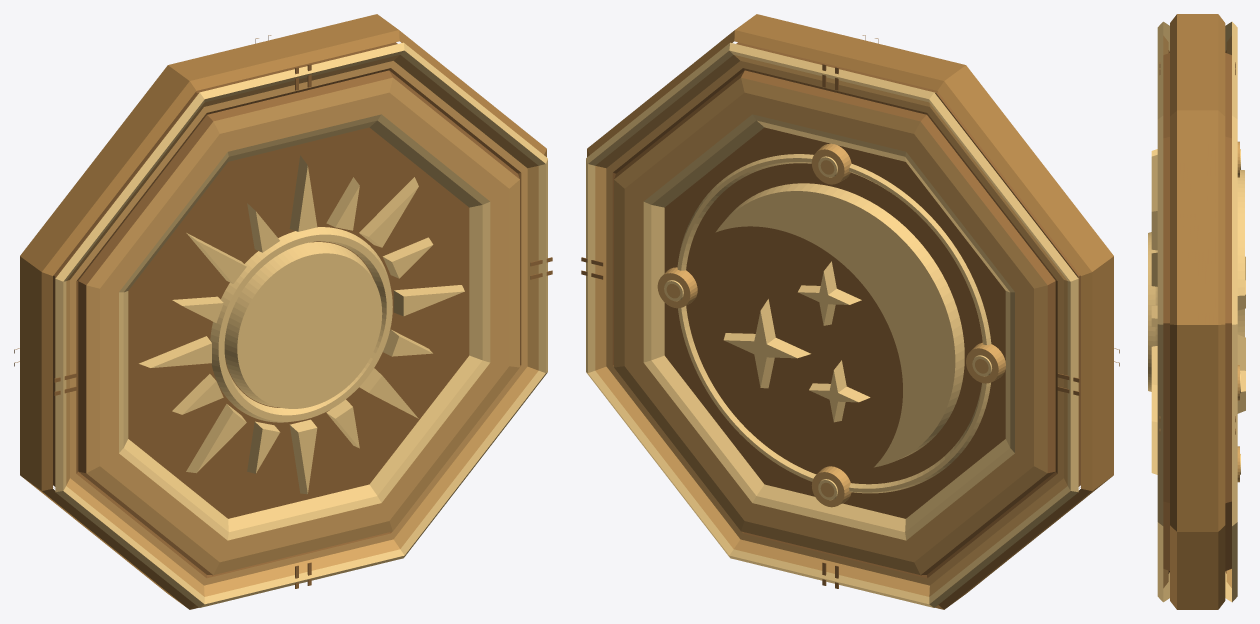
Rendered from midnight_coin.glb.
3 renders of one model, left to right at view 1: azimuth 30°, elevation 25°; view 2: azimuth 150°, elevation 25°; view 3: azimuth 270°, elevation 25°, orthographic. The views are drawn at different scales.
Parts seen in each view (by area): view 1: Heads recessed field, Heads broad raised border, Octagonal solid edge, Heads outer gold shoulder, Heads sun disc, Heads inner gold bevel, Heads outer bright bevel, Heads inset engraved border, Heads sun outline, Heads sun ray 10, Heads sun ray 02, Heads sun ray 12 (+13 smaller); view 2: Tails recessed field, Tails broad raised border, Octagonal solid edge, Tails outer gold shoulder, Tails raised crescent, Tails inner gold bevel, Tails outer bright bevel, Tails inset engraved border, Tails orbital ring, Tails orbit stud (×4), Tails star 1, Tails star 2 (+1 smaller); view 3: Octagonal solid edge, Heads outer bright bevel, Tails outer bright bevel, Heads inset engraved border, Tails inset engraved border, Tails raised crescent, Heads sun disc, Tails star 1, Heads sun ray 04, Heads sun ray 14, Heads sun ray 03, Heads sun ray 00 (+5 smaller).
Part boxes in pixels (left/top/right/bottom): Heads recessed field: left=53, top=42, right=469, bottom=518; Heads broad raised border: left=86, top=77, right=519, bottom=574; Octagonal solid edge: left=20, top=14, right=546, bottom=609; Heads outer gold shoulder: left=66, top=55, right=538, bottom=596; Heads sun disc: left=224, top=242, right=382, bottom=408; Heads inner gold bevel: left=119, top=114, right=490, bottom=540; Heads outer bright bevel: left=55, top=42, right=547, bottom=607; Heads inset engraved border: left=76, top=68, right=521, bottom=578; Heads sun outline: left=210, top=227, right=392, bottom=422; Heads sun ray 10: left=186, top=404, right=246, bottom=473; Heads sun ray 02: left=359, top=177, right=418, bottom=247; Heads sun ray 12: left=289, top=419, right=317, bottom=494; Tails recessed field: left=664, top=42, right=1080, bottom=518; Tails broad raised border: left=614, top=77, right=1047, bottom=574; Octagonal solid edge: left=587, top=14, right=1113, bottom=609; Tails outer gold shoulder: left=595, top=55, right=1067, bottom=596; Tails raised crescent: left=715, top=183, right=964, bottom=467; Tails inner gold bevel: left=643, top=114, right=1014, bottom=540; Tails outer bright bevel: left=586, top=42, right=1078, bottom=607; Tails inset engraved border: left=612, top=68, right=1057, bottom=578; Tails orbital ring: left=677, top=154, right=991, bottom=493; Tails orbit stud (×4): left=657, top=143, right=1005, bottom=507; Tails star 1: left=723, top=299, right=810, bottom=388; Tails star 2: left=798, top=261, right=861, bottom=325; Octagonal solid edge: left=1170, top=14, right=1225, bottom=609; Heads outer bright bevel: left=1157, top=21, right=1169, bottom=602; Tails outer bright bevel: left=1225, top=21, right=1237, bottom=602; Heads inset engraved border: left=1163, top=50, right=1169, bottom=573; Tails inset engraved border: left=1225, top=50, right=1231, bottom=573; Tails raised crescent: left=1237, top=170, right=1244, bottom=336; Heads sun disc: left=1148, top=232, right=1155, bottom=391; Tails star 1: left=1237, top=334, right=1245, bottom=413; Heads sun ray 04: left=1151, top=155, right=1157, bottom=211; Heads sun ray 14: left=1151, top=421, right=1157, bottom=474; Heads sun ray 03: left=1151, top=211, right=1157, bottom=250; Heads sun ray 00: left=1151, top=346, right=1157, bottom=385.
Size of the model in its own units: 2 by 2 by 0.355.
